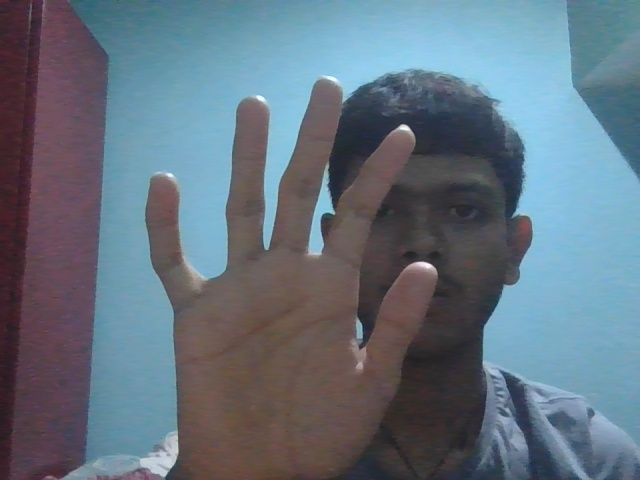hello: (90, 70, 457, 455)
